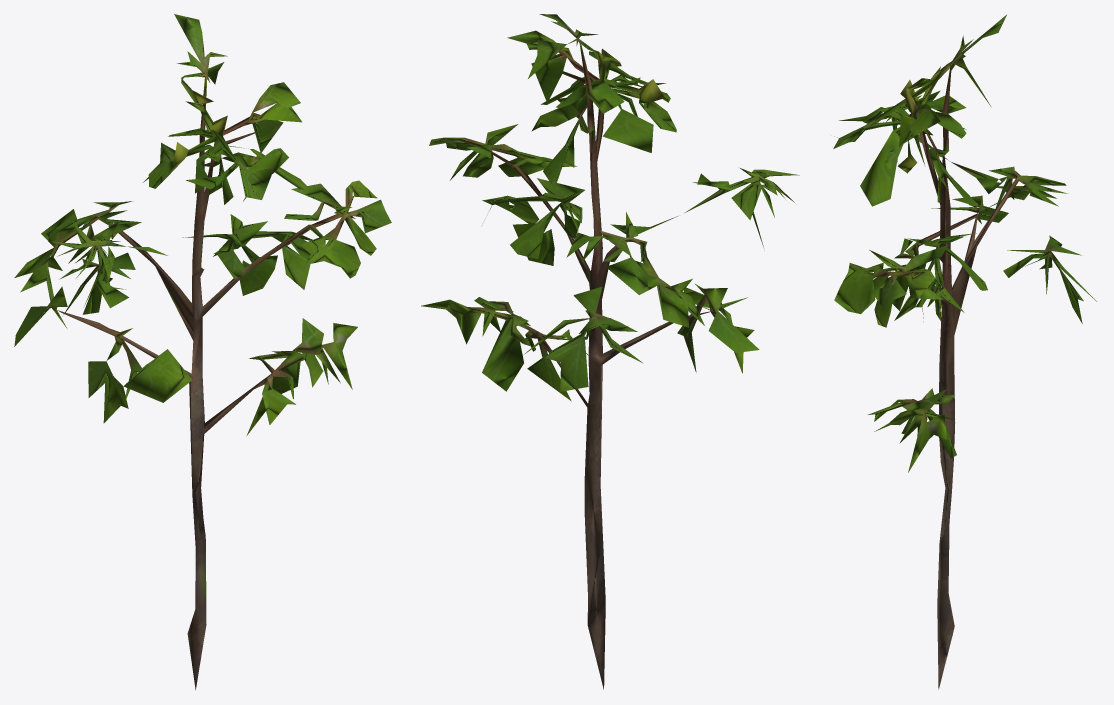
Rendered from surgun.glb.
The picture shows the model from 3 angles, left to right: view 1: azimuth 30°, elevation 25°; view 2: azimuth 150°, elevation 25°; view 3: azimuth 270°, elevation 25°; orthographic projection. The views are drawn at different scales.
Visible parts, largest first — view 1: tripo_node_c315836f-5cb0-4eb7-a173-c763161913f0; view 2: tripo_node_c315836f-5cb0-4eb7-a173-c763161913f0; view 3: tripo_node_c315836f-5cb0-4eb7-a173-c763161913f0.
Boxes of the visible parts, <box> form: tripo_node_c315836f-5cb0-4eb7-a173-c763161913f0: <box>14,14,391,690</box>; tripo_node_c315836f-5cb0-4eb7-a173-c763161913f0: <box>421,14,799,689</box>; tripo_node_c315836f-5cb0-4eb7-a173-c763161913f0: <box>833,14,1096,689</box>.
Size of the model in its own units: 0.5226 by 0.968 by 0.3491.
1 material, 1 textured.
